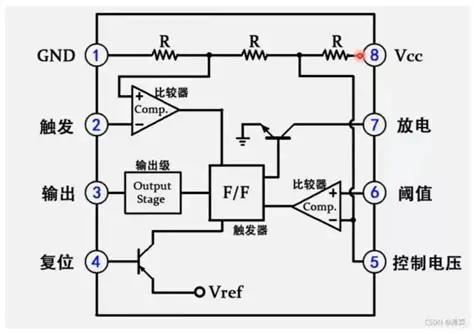bistable flip-flop: (210, 164, 263, 220)
comparator1: (291, 180, 341, 234), (131, 84, 180, 135)
discharge circuit: (261, 121, 295, 140)
output circuit: (126, 173, 181, 214)
reset circuit: (136, 243, 155, 279)
resistance: (320, 48, 350, 62), (151, 47, 179, 61), (239, 49, 270, 61)
